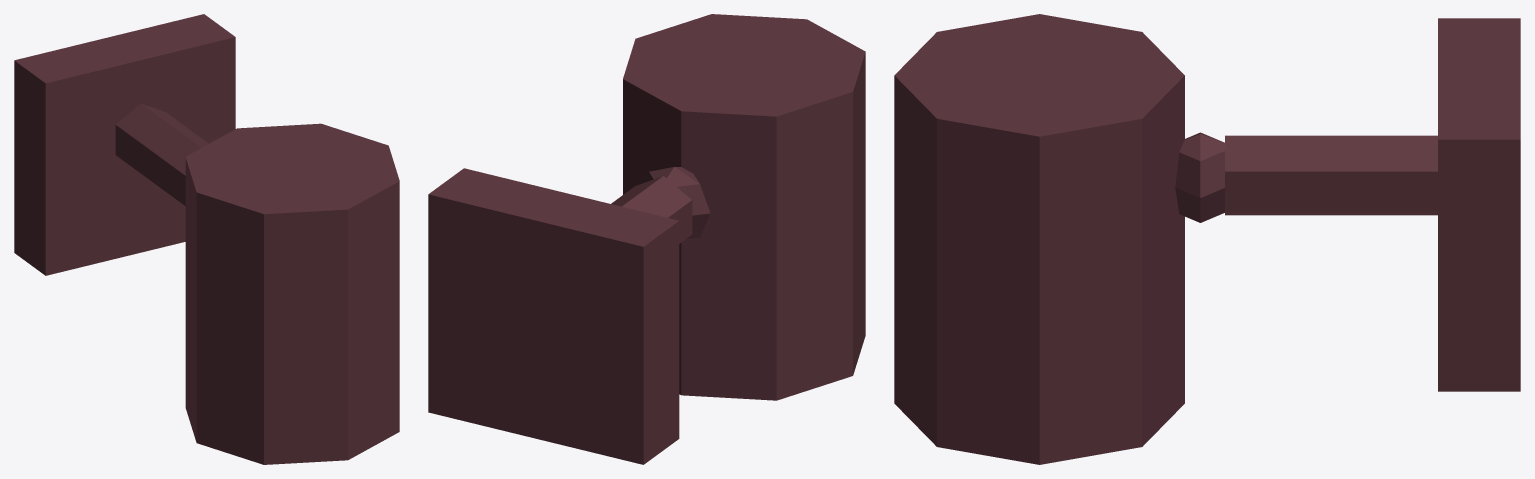
The model's file is light-wall-base.fbx.
3 renders of one model, left to right at view 1: azimuth 30°, elevation 25°; view 2: azimuth 150°, elevation 25°; view 3: azimuth 270°, elevation 25°, orthographic. The views are drawn at different scales.
Parts seen in each view (by area): view 1: light-wall-base; view 2: light-wall-base; view 3: light-wall-base.
Boxes of the visible parts, x1,y1,x2,y2 form: light-wall-base: [14, 14, 399, 464]; light-wall-base: [428, 14, 865, 464]; light-wall-base: [894, 14, 1520, 464].
Size of the model in its own units: 0.07 by 0.0873 by 0.1509.
